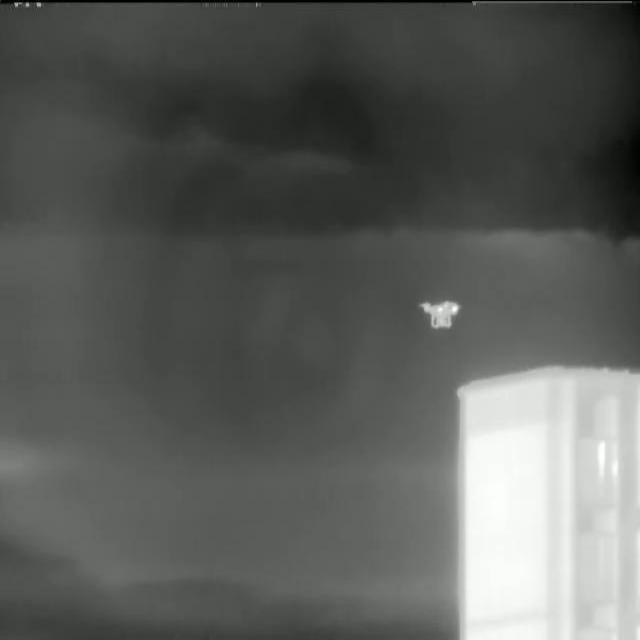DRONE: (416, 297, 467, 331)
